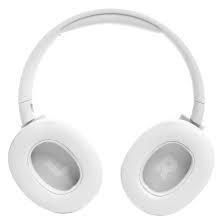headphones: (8, 7, 217, 217)
